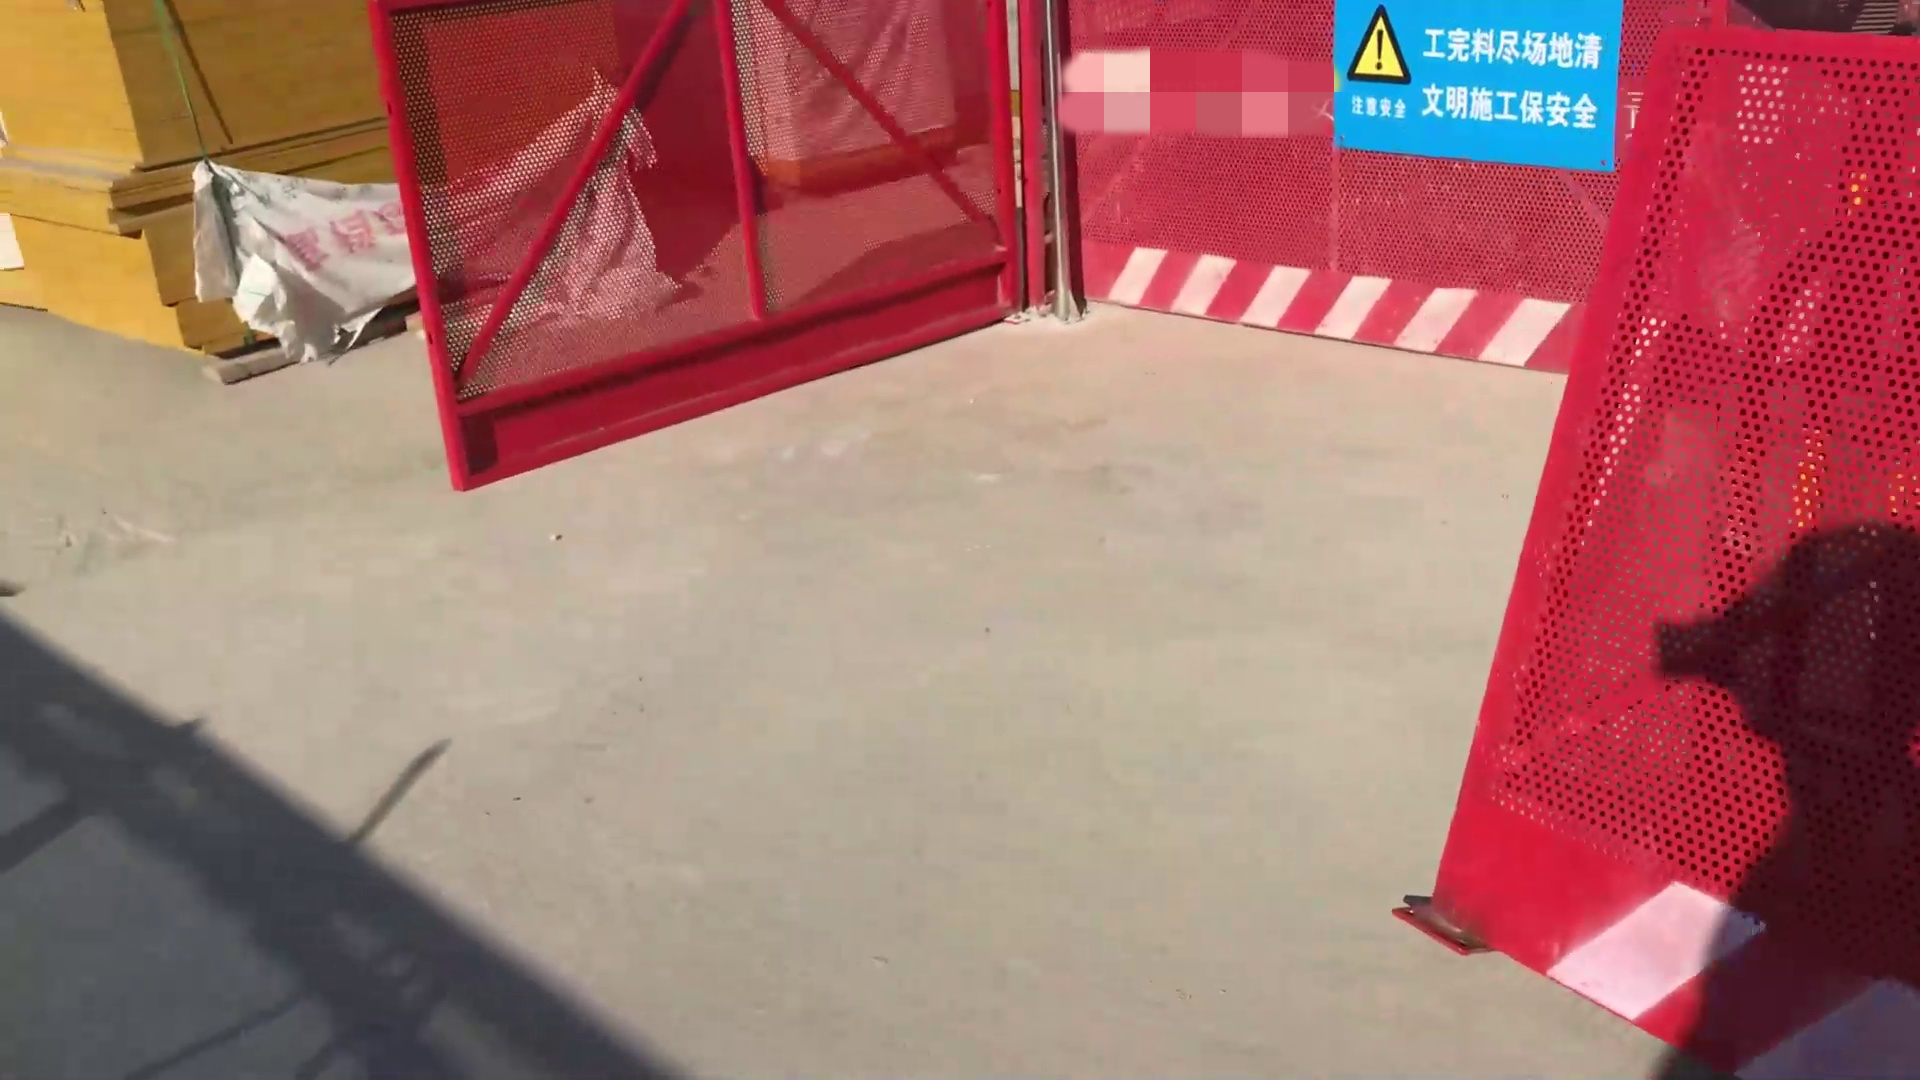board: (4, 4, 404, 377)
fence: (1439, 18, 1919, 1080), (371, 8, 1043, 491), (1054, 7, 1721, 381)
slogan: (1348, 7, 1598, 150)
